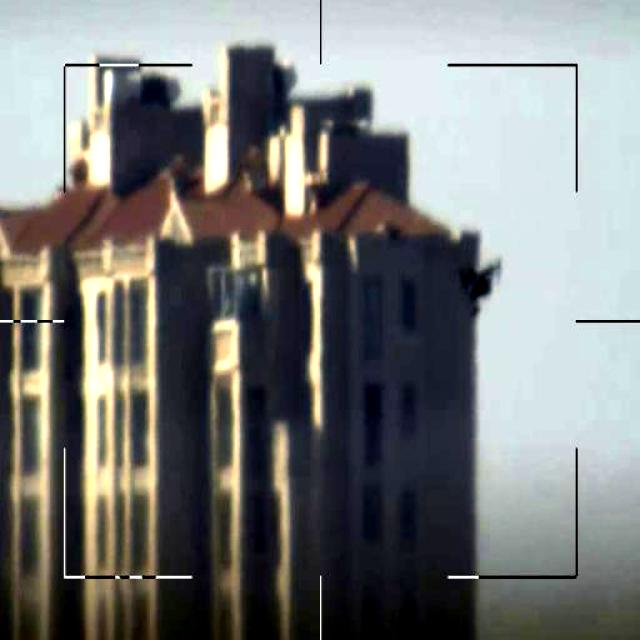bird: (452, 256, 505, 328)
